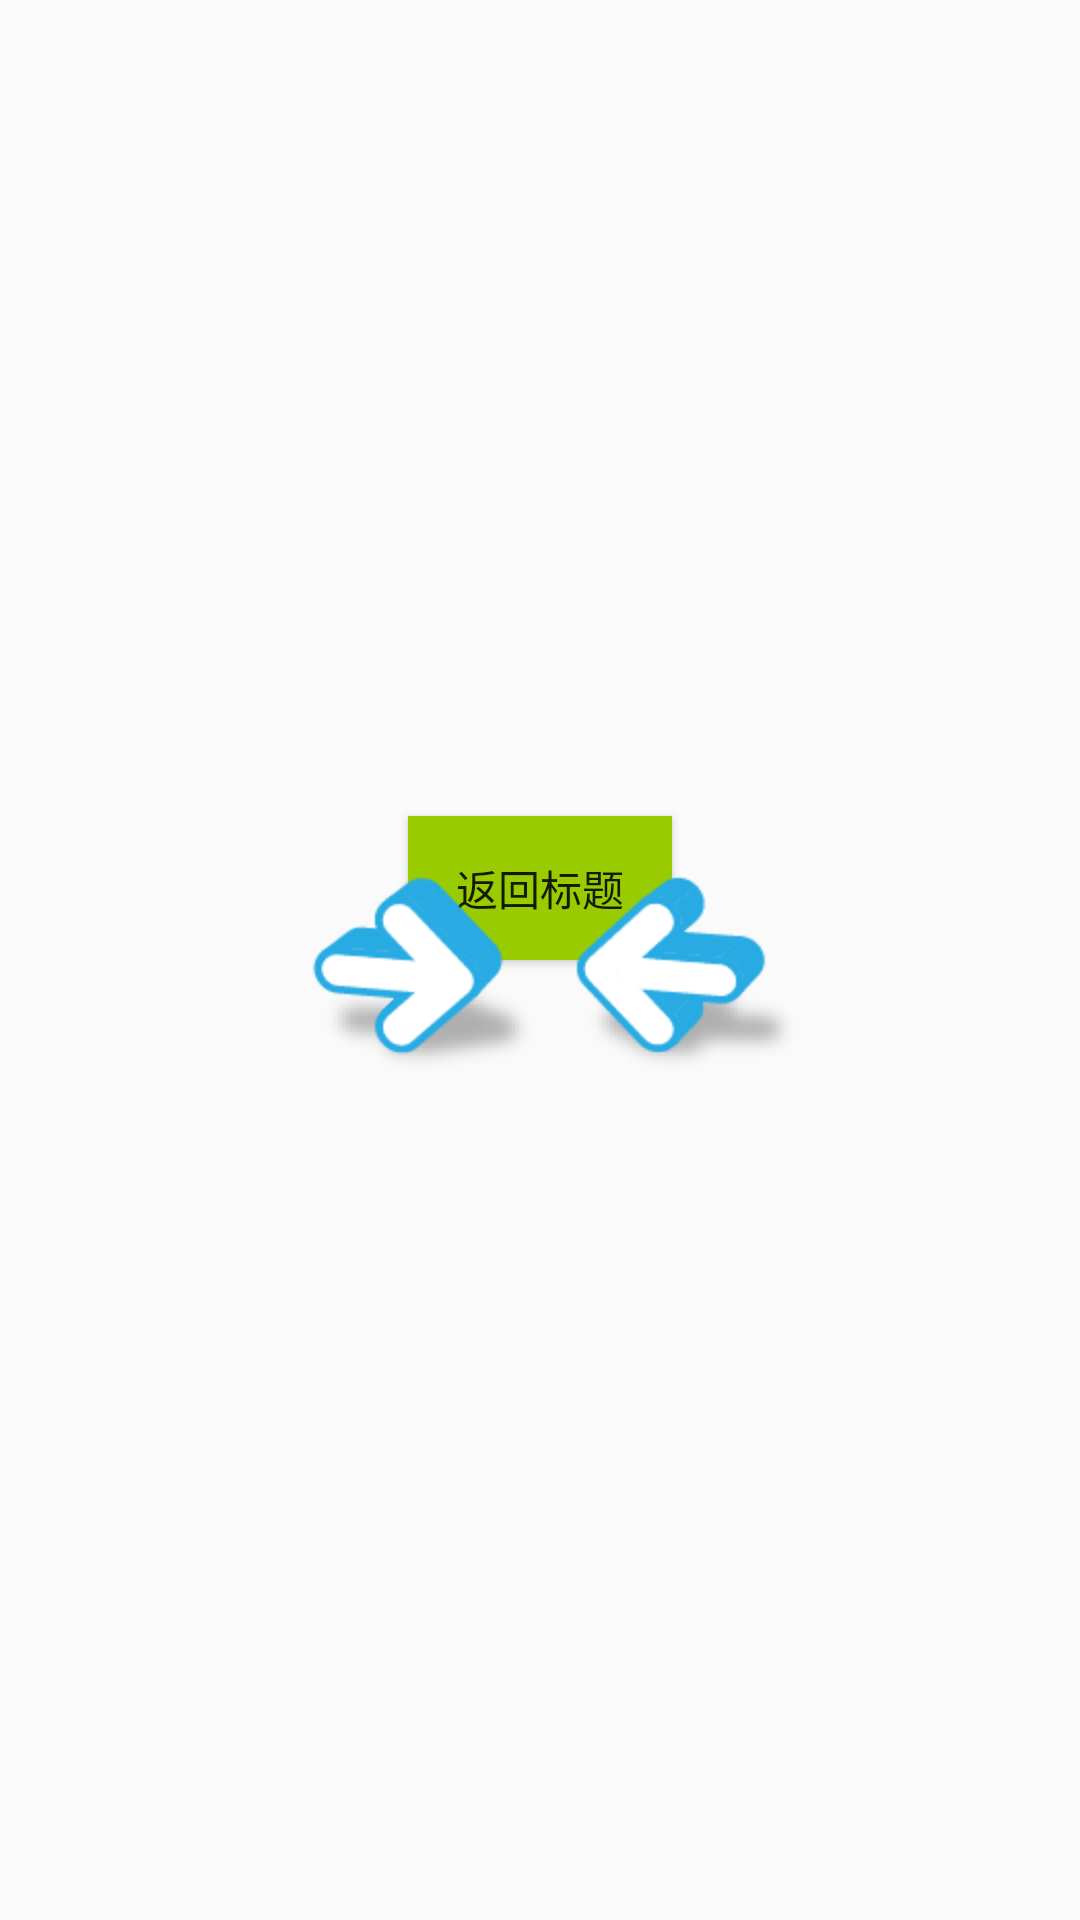

Icon click points for this 1080×1920 phone screenshot, format (x,y):
arrow left: (660,944)
arrow right: (426,944)
